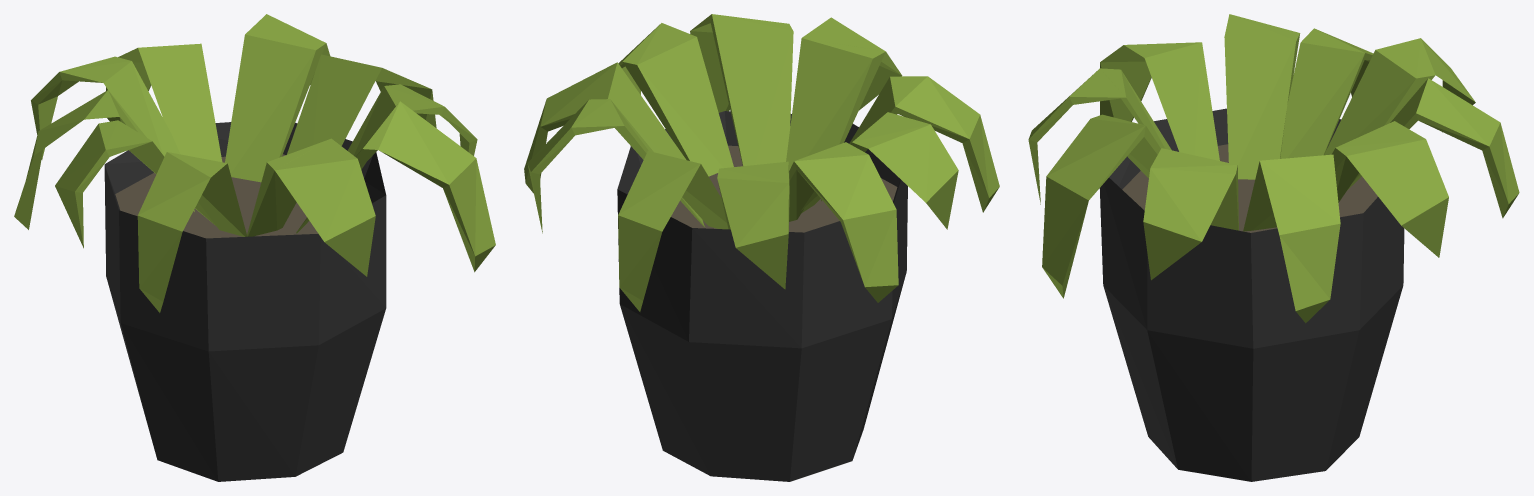
File: houseplant_fern_lite.fbx
The picture shows the model from 3 angles, left to right: view 1: azimuth 30°, elevation 25°; view 2: azimuth 150°, elevation 25°; view 3: azimuth 270°, elevation 25°; orthographic projection. The views are drawn at different scales.
Parts seen in each view (by area): view 1: houseplant_fern_lite; view 2: houseplant_fern_lite; view 3: houseplant_fern_lite.
Part boxes in pixels (<box>): houseplant_fern_lite: <box>14,14,495,481</box>; houseplant_fern_lite: <box>524,14,999,481</box>; houseplant_fern_lite: <box>1028,14,1519,481</box>.
Bounding box in the file's own units: 0.7145 × 0.6098 × 0.743.
1 material, 1 textured.
